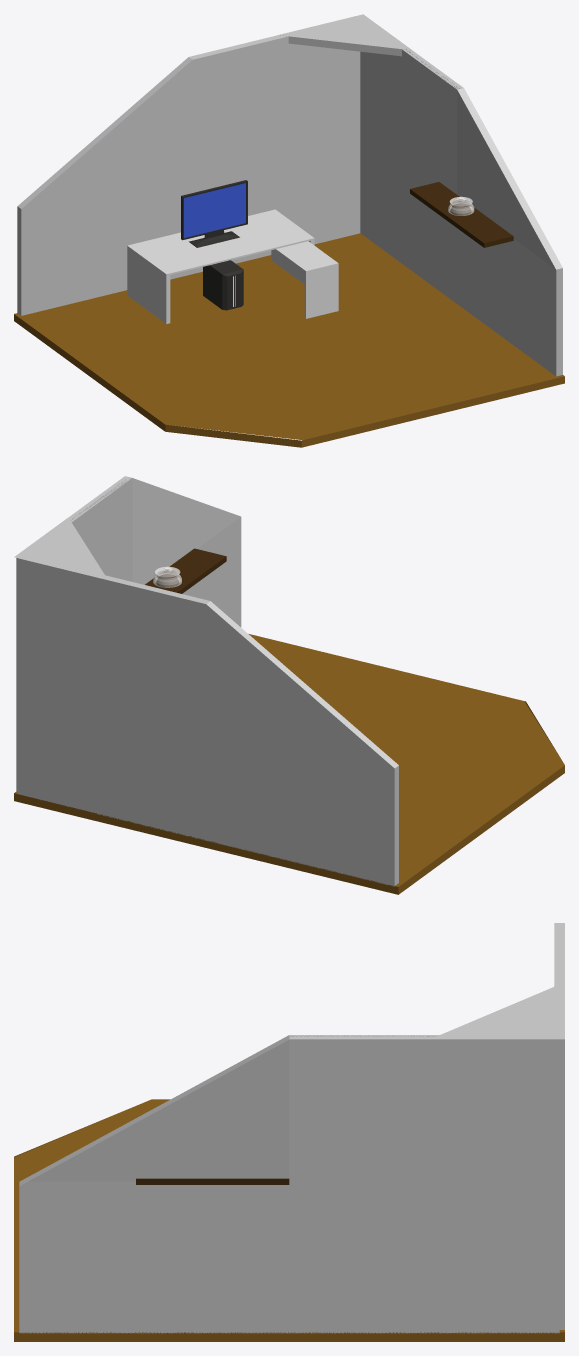
Rendered from room3.glb.
3 views of the same model, one above another, from view 1: azimuth 30°, elevation 25°; view 2: azimuth 150°, elevation 25°; view 3: azimuth 270°, elevation 25° (orthographic). The views are drawn at different scales.
Visible parts, largest first — view 1: Cube.004, Floor.001, Floor.002, Cube, Cube.001, Floor.003, Cube.002, Cube.003, PC; view 2: Floor.001, Cube.004, Floor.002, Floor.003, Cube.003, Cylinder; view 3: Floor.002, Cube.004, Floor.003, Floor.001, Cube.003.
Boxes of the visible parts, x1=… form: Cube.004: x1=14, y1=233, x2=564, y2=447; Floor.001: x1=17, y1=35, x2=360, y2=315; Floor.002: x1=360, y1=49, x2=562, y2=376; Cube: x1=127, y1=209, x2=314, y2=323; Cube.001: x1=181, y1=180, x2=247, y2=247; Floor.003: x1=278, y1=14, x2=412, y2=56; Cube.002: x1=274, y1=241, x2=338, y2=318; Cube.003: x1=410, y1=182, x2=513, y2=247; PC: x1=203, y1=260, x2=243, y2=310; Floor.001: x1=17, y1=558, x2=398, y2=886; Cube.004: x1=14, y1=634, x2=564, y2=894; Floor.002: x1=16, y1=476, x2=241, y2=791; Floor.003: x1=14, y1=517, x2=107, y2=579; Cube.003: x1=145, y1=548, x2=226, y2=593; Cylinder: x1=153, y1=566, x2=181, y2=587; Floor.002: x1=19, y1=1035, x2=559, y2=1333; Cube.004: x1=14, y1=1099, x2=564, y2=1341; Floor.003: x1=430, y1=982, x2=564, y2=1039; Floor.001: x1=554, y1=923, x2=564, y2=1329; Cube.003: x1=136, y1=1178, x2=289, y2=1184.
Bounding box in the file's own units: 10.2 × 6.18 × 10.2.
